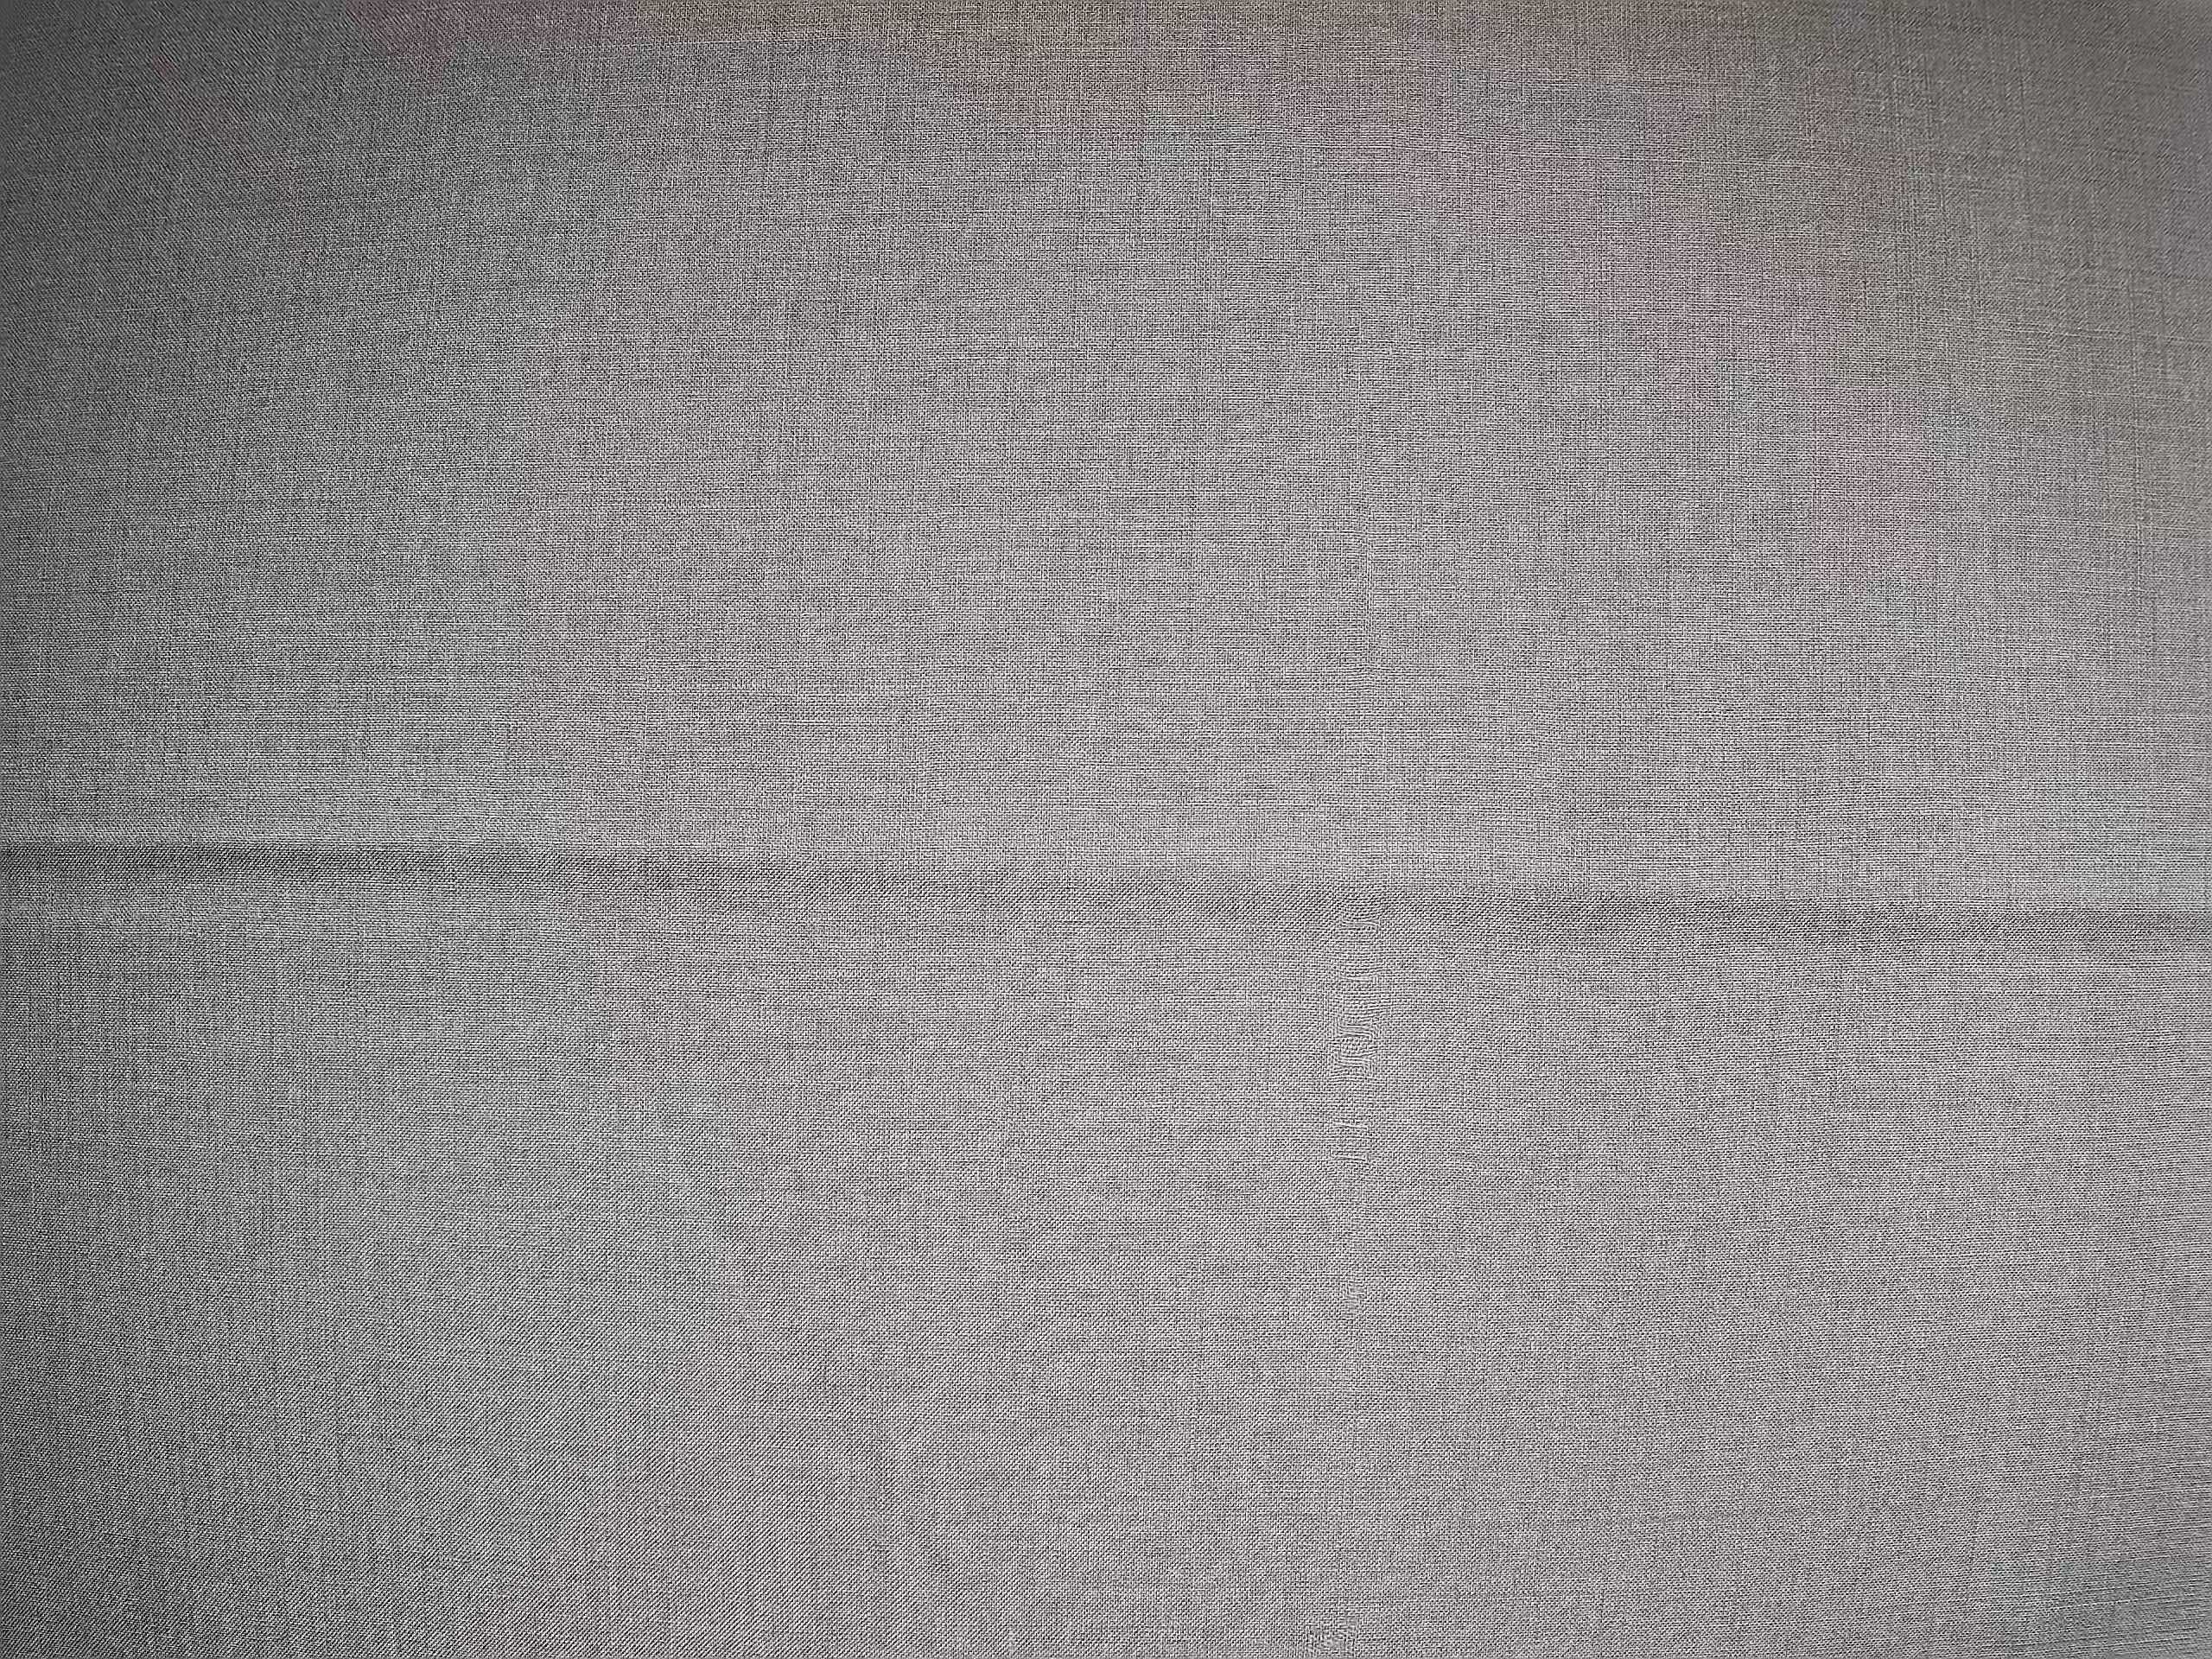jumps: (1310, 824, 1402, 1279)
